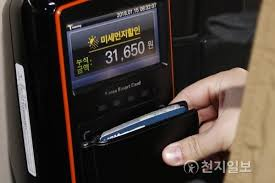terminal: (17, 2, 176, 166)
